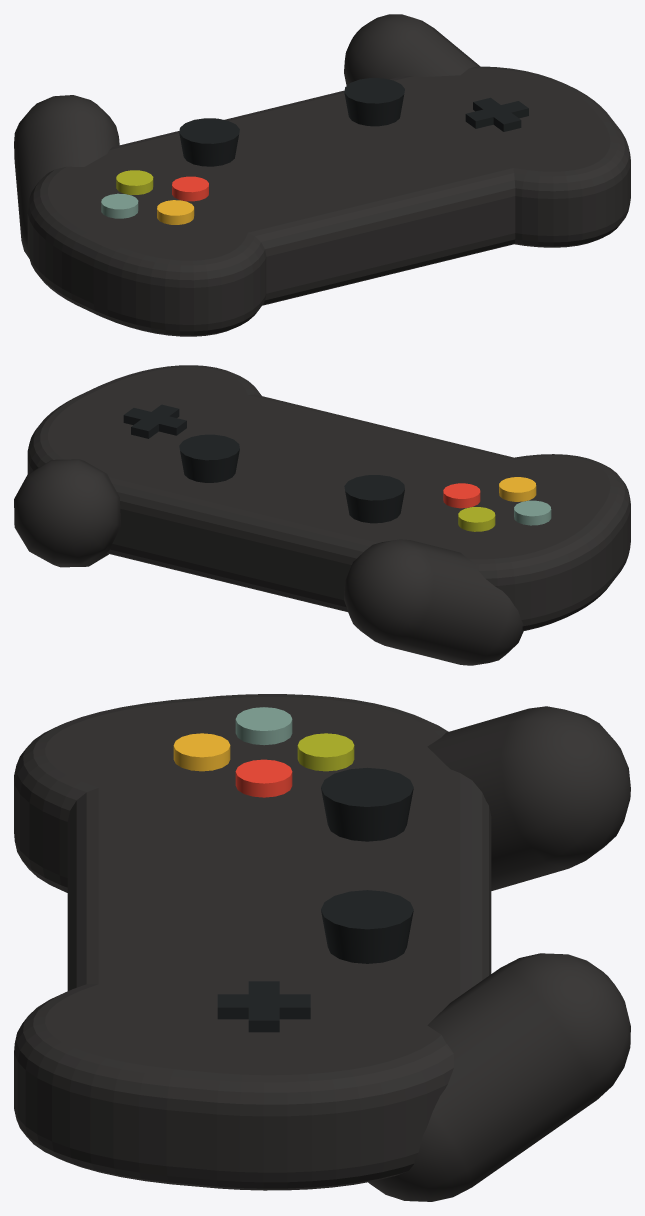
File: controller.glb
The picture shows the model from 3 angles, top to bottom: view 1: azimuth 30°, elevation 25°; view 2: azimuth 150°, elevation 25°; view 3: azimuth 270°, elevation 25°; orthographic projection. The views are drawn at different scales.
Size of the model in its own units: 0.1853 by 0.0446 by 0.1194.
